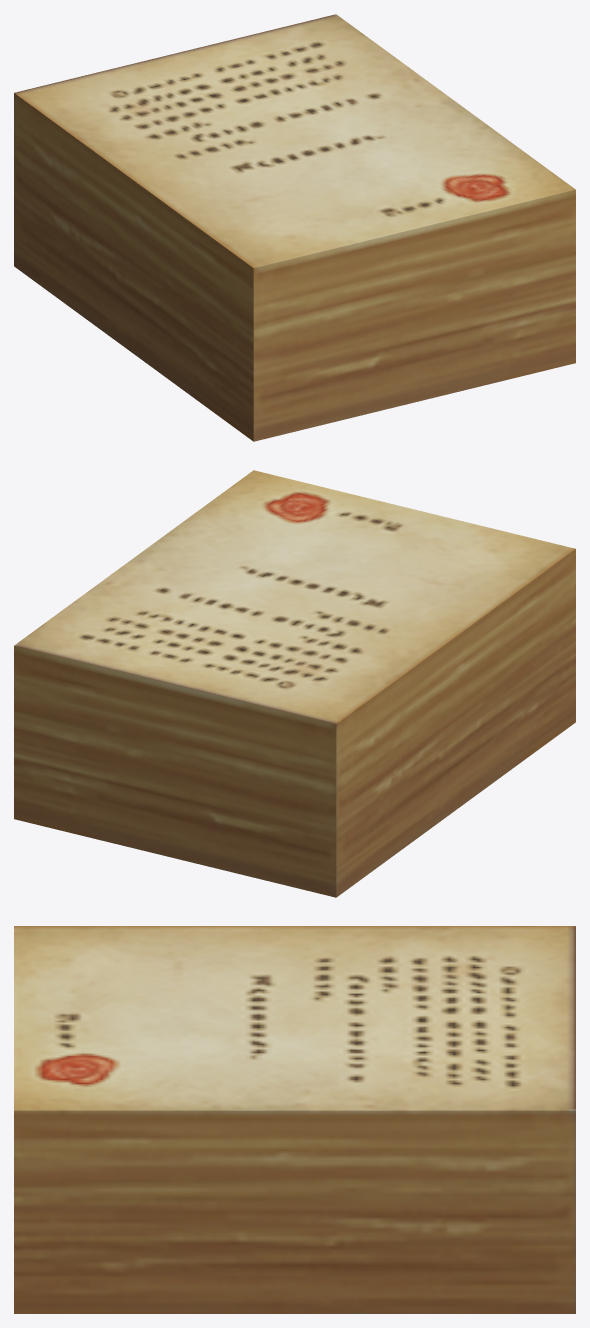
The model's file is Paper_01.FBX.
3 views of the same model, one above another, from view 1: azimuth 30°, elevation 25°; view 2: azimuth 150°, elevation 25°; view 3: azimuth 270°, elevation 25° (orthographic). The views are drawn at different scales.
Visible parts, largest first — view 1: Paper_01; view 2: Paper_01; view 3: Paper_01.
Part boxes in pixels (x1,y1,x2,y2): Paper_01: (14,14,575,441); Paper_01: (14,470,575,897); Paper_01: (14,926,575,1313).
Bounding box in the file's own units: 21.54 × 27.75 × 11.08.
